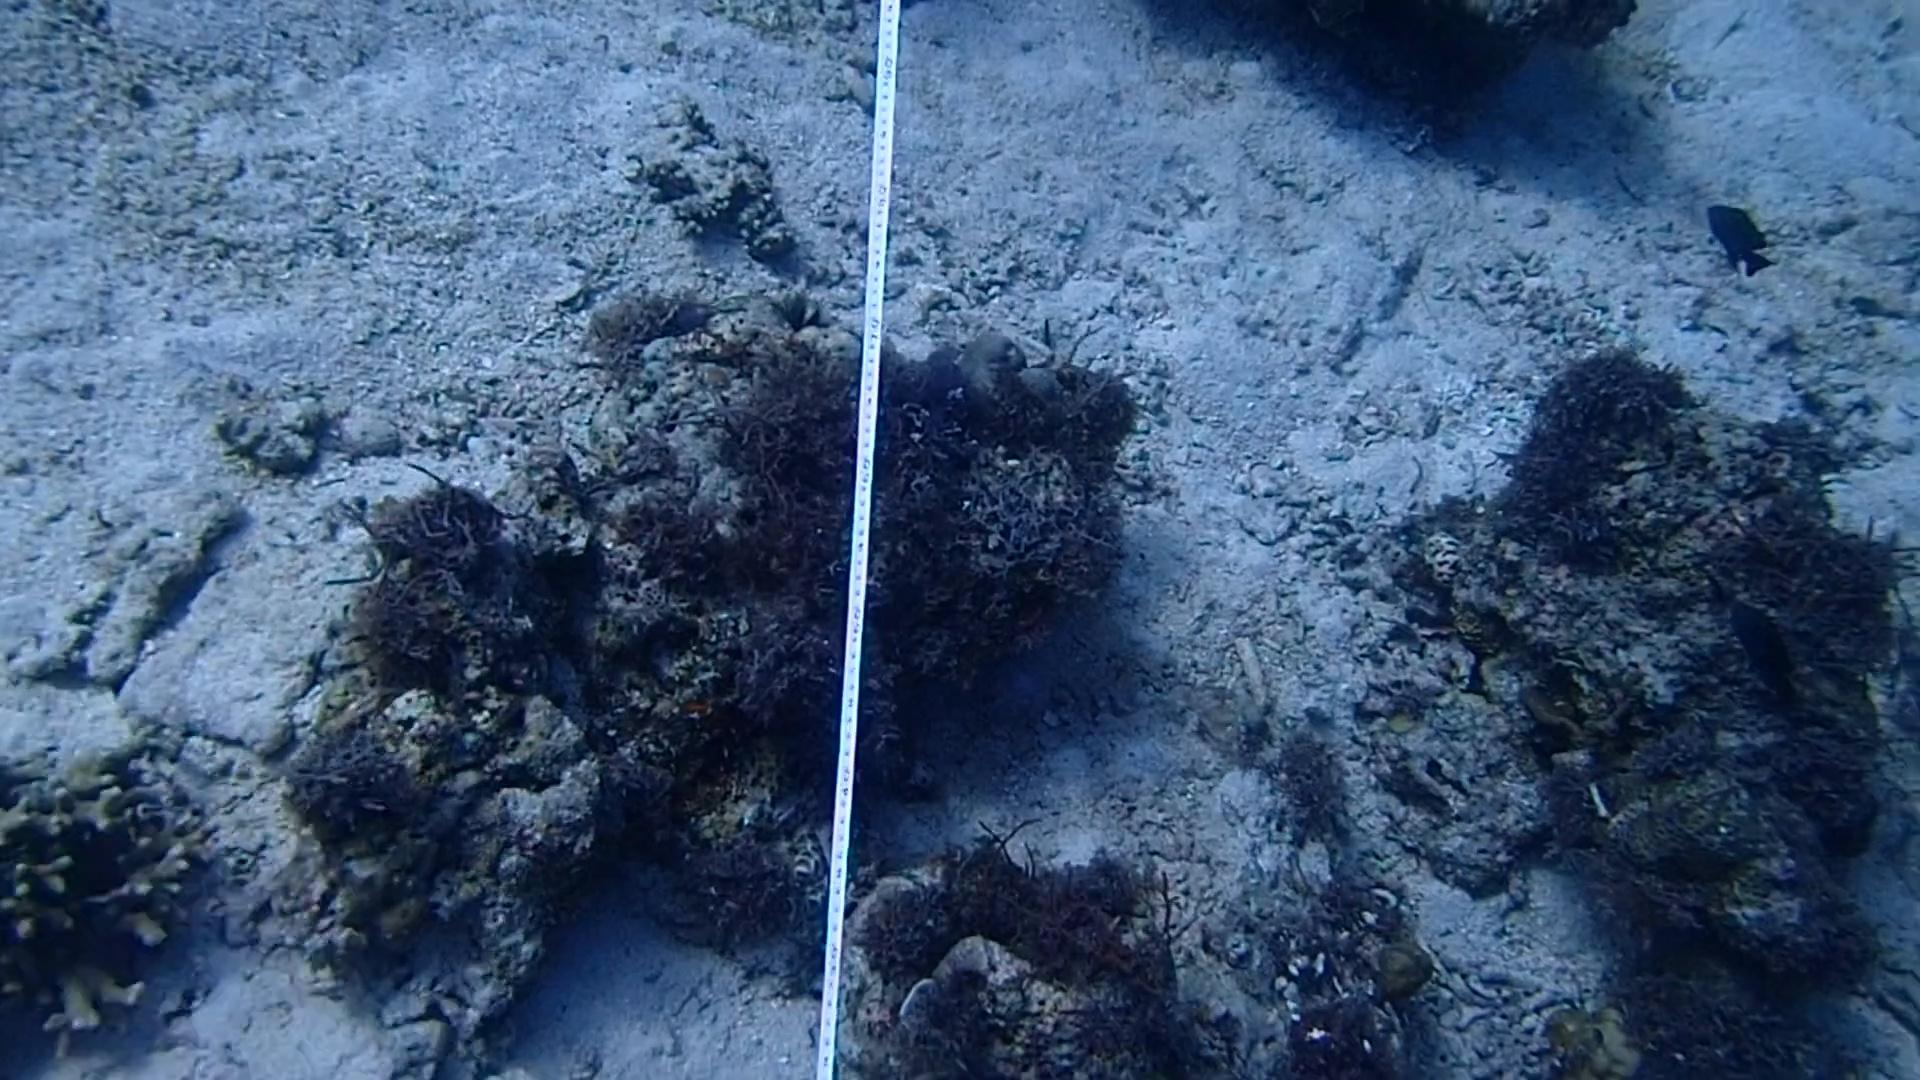Dark Fish: (1718, 583, 1809, 703), (1698, 187, 1783, 285)
